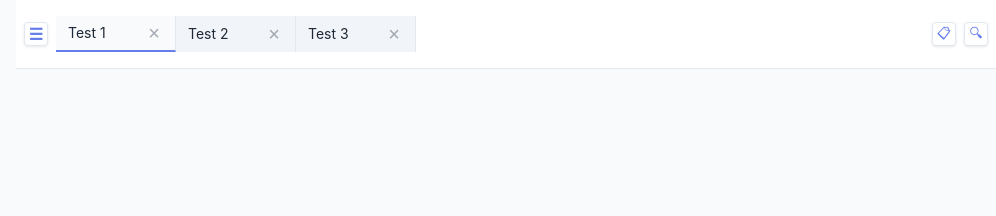
it: TabsBar › toggles tabs dropdown on button click
The width and height of the screenshot is (996, 216).
Click to open
Click the button with class "tabs-dropdown-btn". click: (944, 34)
box: [932, 22, 956, 46]
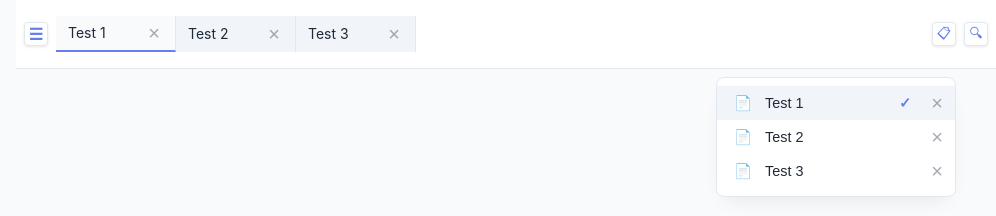
expect the menu with class "tabs-dropdown" is shown: met, box [716, 77, 956, 197]
Click again to close
Click the button with class "tabs-dropdown-btn". click: (944, 34)
box: [932, 22, 956, 46]
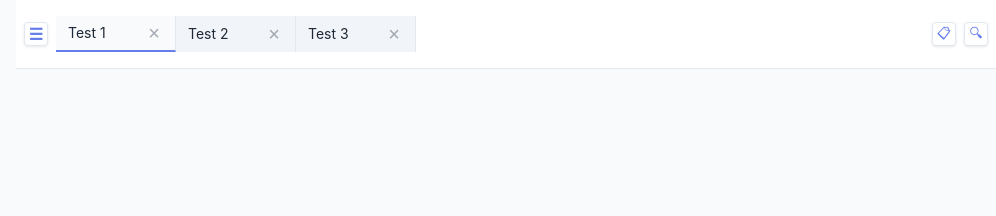
expect the menu with class "tabs-dropdown" is gone: met
